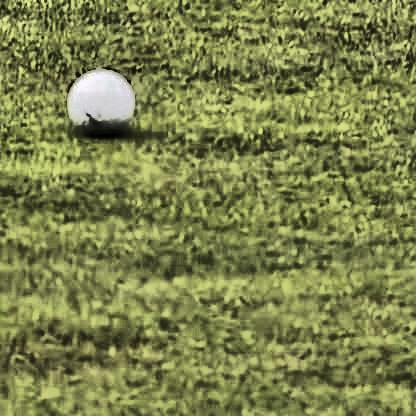golfball: (67, 65, 130, 130)
